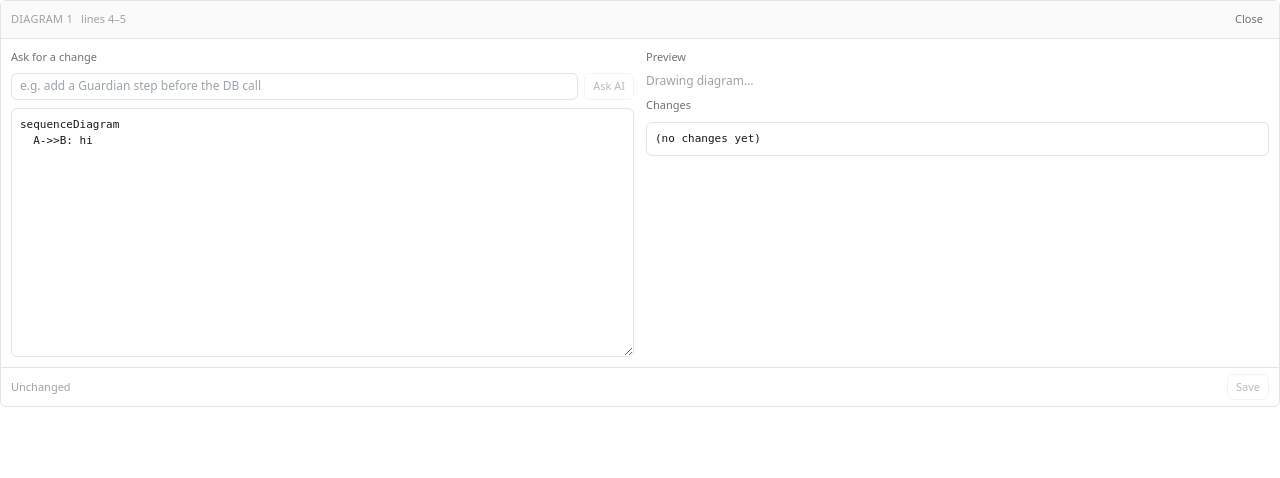
Test: AC-5 — a missing model is an invitation, a failure is an error › 501 renders a capability note and NO error state
The image size is (1280, 478).
Type "add C" into the field with test id "fence-instruction" at [295, 86], box [11,73,578,100]
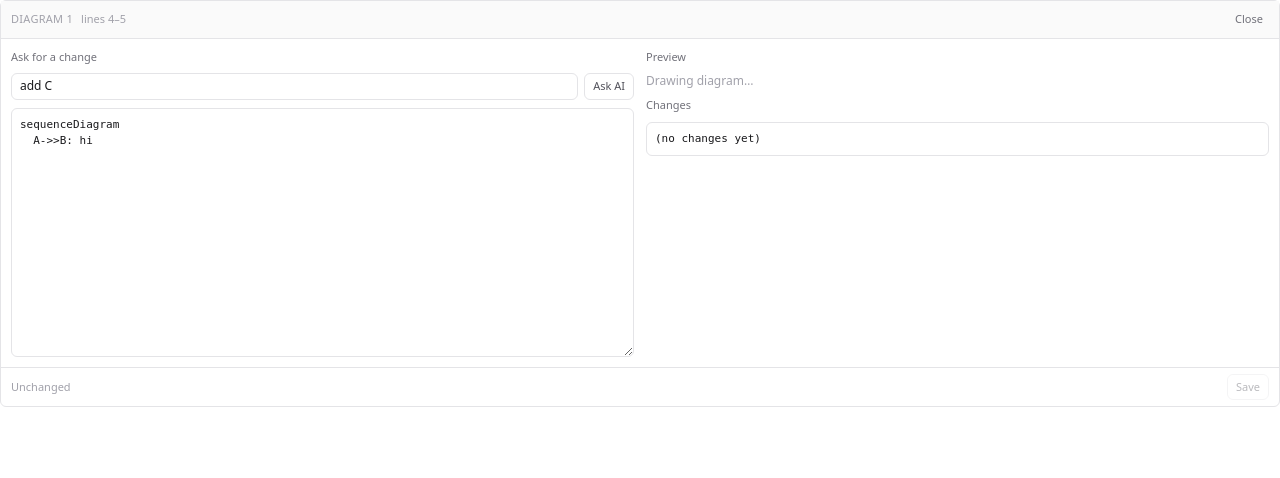
Click the button with test id "fence-ask" at [609, 86], box [584,73,634,100]
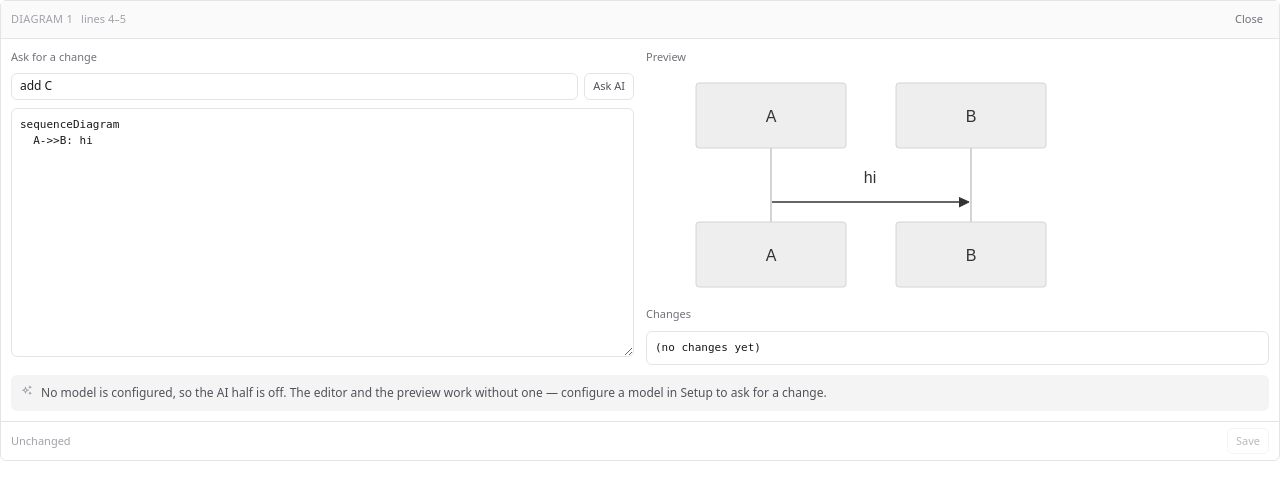
Expected: the text with test id "fence-no-model" is shown, [41,384,827,401]
